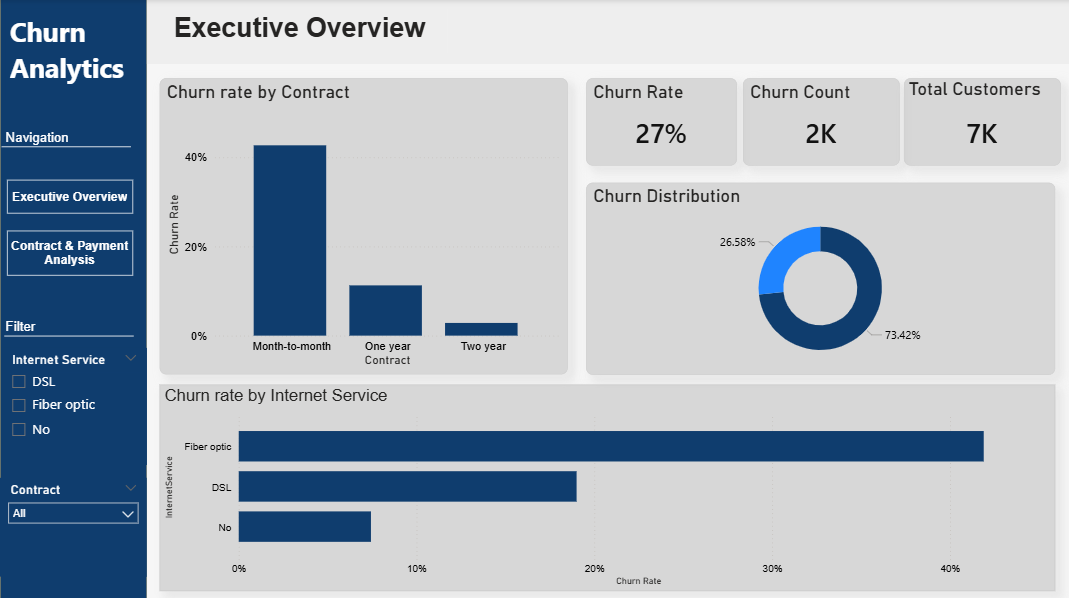

Layout of this report page (visuals, bound fields, positions):
{"tool":"powerbi","page":{"name":"Executive Overview","canvas":[1280,720],"ordinal":0},"visuals":[{"type":"shape","box":[0,0,175.8,720.2],"z":0},{"type":"shape","box":[175.8,0,1103.9,77.8],"z":1000},{"type":"textbox","box":[202.9,11.8,333,52.4],"z":2000},{"type":"textbox","box":[2,379.5,104.5,31.8],"z":3000},{"type":"shape","box":[5.2,395.7,154.8,15.6],"z":4000},{"type":"cardVisual","title":"Churn Rate","fields":{"Data":["clean_telco_churn.Churn Rate"]},"box":[701.6,94.7,180.9,104.8],"z":5000},{"type":"cardVisual","title":"Churn Count","fields":{"Data":["clean_telco_churn.Churned Customers"]},"box":[889.2,94.7,187.6,104.8],"z":6000},{"type":"cardVisual","title":"Total Customers","fields":{"Data":["clean_telco_churn.Total Customers"]},"box":[1081.9,94.7,187.6,104.8],"z":7000},{"type":"donutChart","title":"Churn Distribution","fields":{"Category":["Churn Overview.Churn"],"Y":["CountNonNull(clean_telco_churn.Churn)"]},"box":[701.6,219.8,561.3,229.9],"z":8000},{"type":"clusteredColumnChart","title":"Churn rate by Contract","fields":{"Category":["Contract Analysis.Contract"],"Y":["clean_telco_churn.Churn Rate"]},"box":[191,94.7,488.6,355],"z":9000},{"type":"clusteredBarChart","title":"Churn rate by Internet Service","fields":{"Category":["Internet Service Analysis.InternetService"],"Y":["clean_telco_churn.Churn Rate"]},"box":[191,461.5,1071.8,246.8],"z":10000},{"type":"slicer","fields":{"Values":["Contract Analysis.Contract"]},"box":[0,573.1,175.8,118.3],"z":11000},{"type":"slicer","fields":{"Values":["clean_telco_churn.InternetService"]},"box":[1.7,417.6,174.1,140.3],"z":12000},{"type":"textbox","box":[6.8,11.8,153.8,109.9],"z":13000},{"type":"textbox","box":[2.5,152.8,104.8,32.1],"z":14000},{"type":"shape","box":[2.4,169.5,154.8,15.6],"z":15000},{"type":"actionButton","box":[9.3,216.2,150.4,40.6],"z":16000},{"type":"actionButton","box":[9.3,277.1,150.4,54.1],"z":17000}]}

Visuals, with their boxes on the page's 1280x720 design canvas (x1, y1, x2, y2). These are canvas units, not pixel positions in the 1069x598 screenshot, which may show the page scaled, cropped or inside an application window:
shape: bbox=[0, 0, 176, 720]
shape: bbox=[176, 0, 1280, 78]
textbox: bbox=[203, 12, 536, 64]
textbox: bbox=[2, 380, 106, 411]
shape: bbox=[5, 396, 160, 411]
"Churn Rate" cardVisual: bbox=[702, 95, 882, 200]
"Churn Count" cardVisual: bbox=[889, 95, 1077, 200]
"Total Customers" cardVisual: bbox=[1082, 95, 1270, 200]
"Churn Distribution" donutChart: bbox=[702, 220, 1263, 450]
"Churn rate by Contract" clusteredColumnChart: bbox=[191, 95, 680, 450]
"Churn rate by Internet Service" clusteredBarChart: bbox=[191, 462, 1263, 708]
slicer - Contract Analysis.Contract: bbox=[0, 573, 176, 691]
slicer - clean_telco_churn.InternetService: bbox=[2, 418, 176, 558]
textbox: bbox=[7, 12, 161, 122]
textbox: bbox=[2, 153, 107, 185]
shape: bbox=[2, 170, 157, 185]
actionButton: bbox=[9, 216, 160, 257]
actionButton: bbox=[9, 277, 160, 331]
